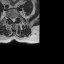CCS_normal: (12, 16, 14, 23)
LFS_normal: (16, 15, 17, 20)
LLS_normal: (14, 15, 16, 21)
RFS_stenosis: (9, 15, 10, 20)
RLS_normal: (10, 16, 12, 21)
